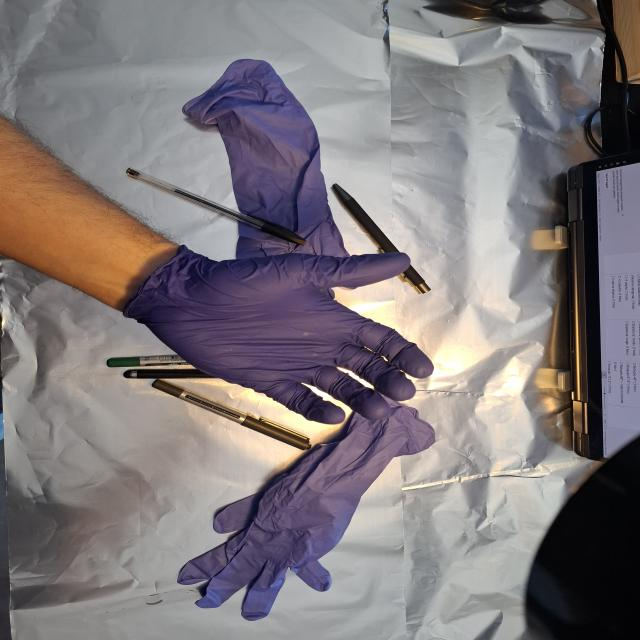glove_on: (123, 246, 437, 427)
